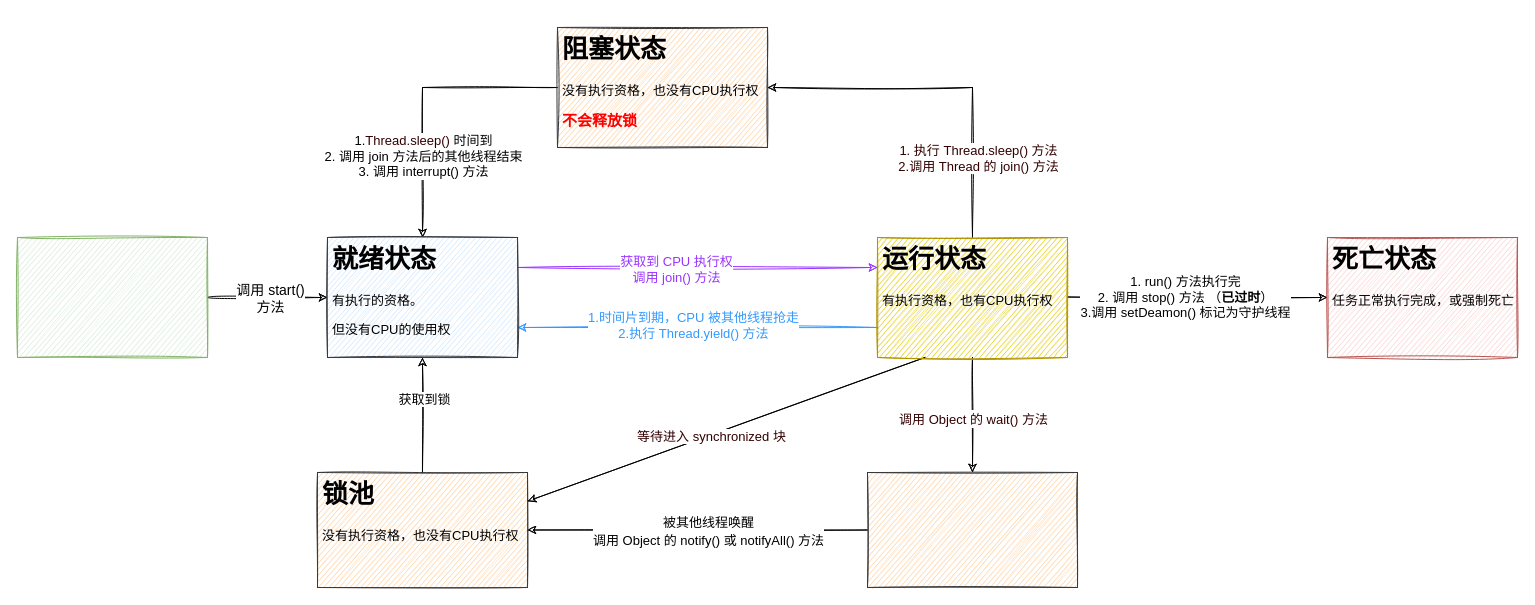
The diagram is 1535 pixels wide and 605 high, and some of its shapes have lost their labels. The shapes that lost their labels are listed below. From the top down, each one's centre as x and y in pixels, then its label:
At point 112,297: "新建状态 程序使用 new 关键字创建了一个线程之后，还没有调用 start() 方法前".
At point 972,530: "等待队列 没有执行资格，也 没有CPU执行权 会释放锁".
